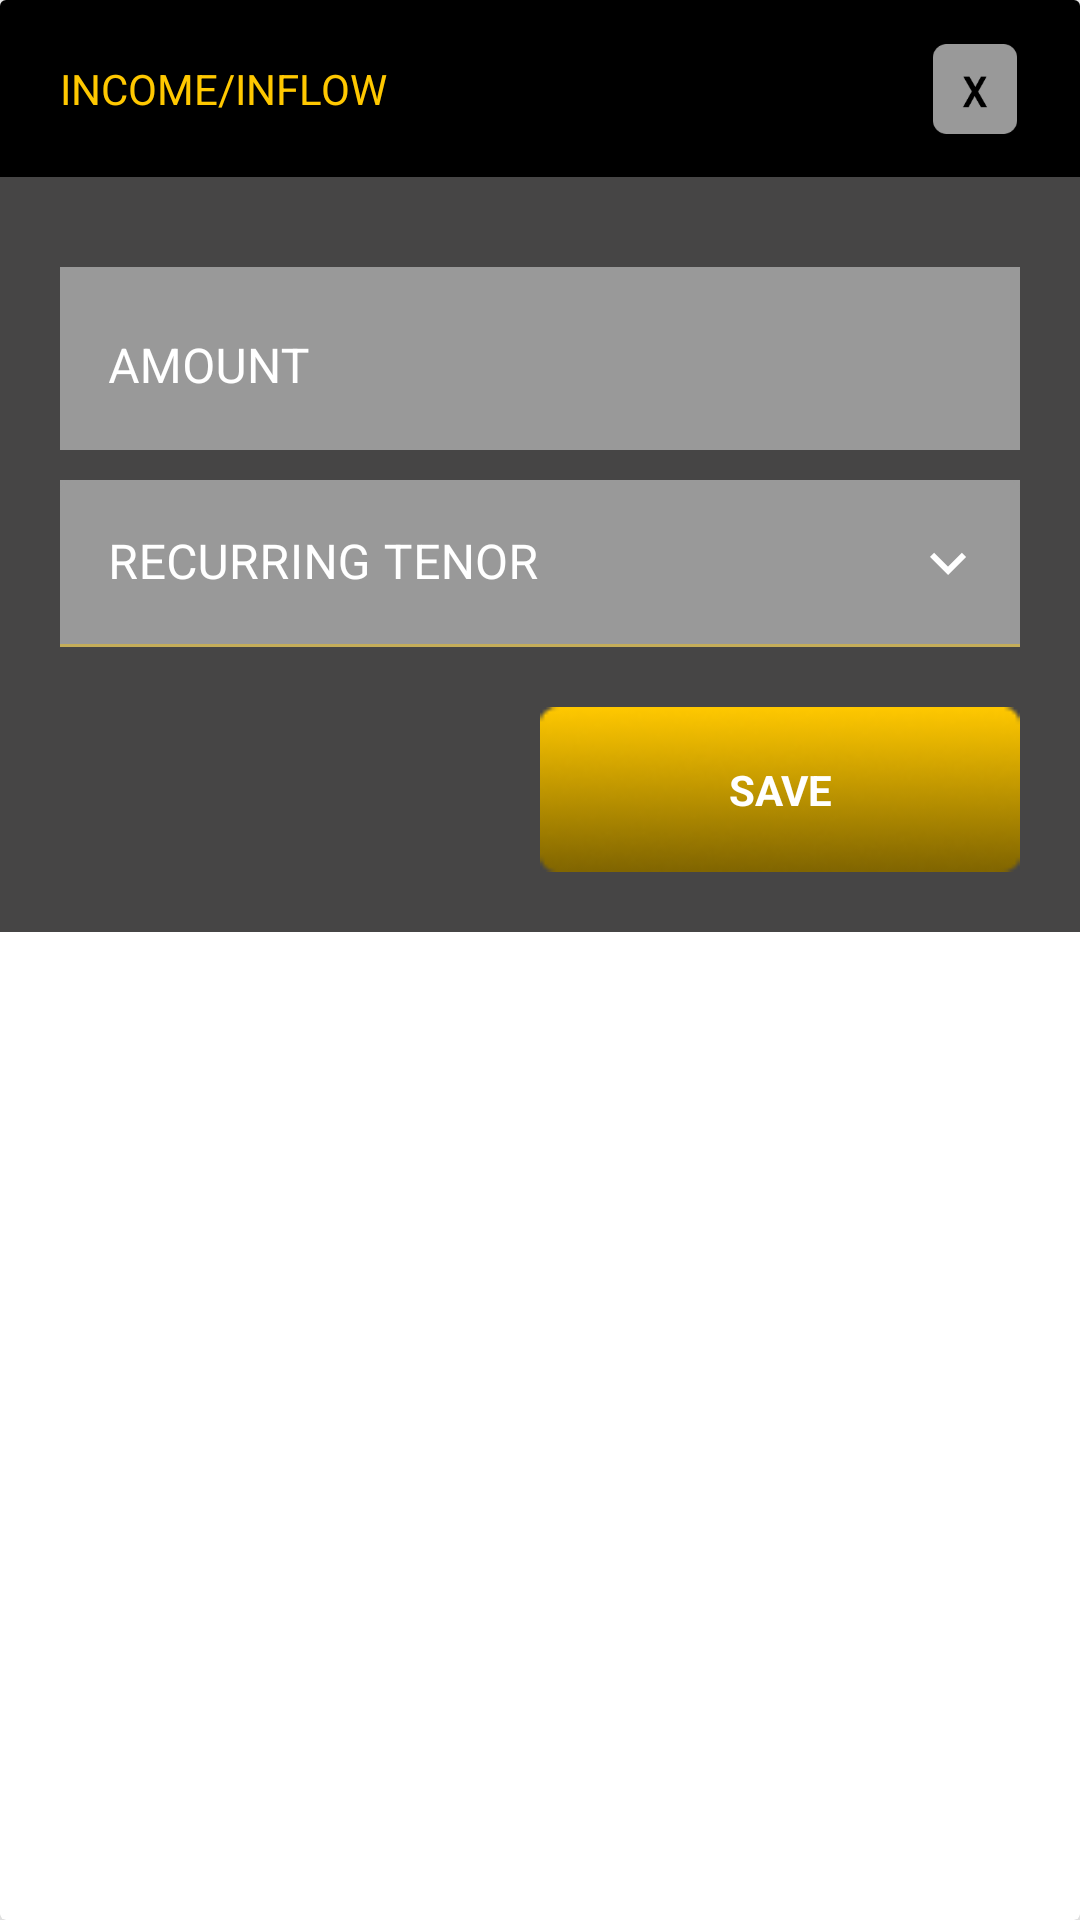

Screen size 1080*1920. Icon name, then its box in pixels as [x1,y1,x2,y2]:
cancel: [933,44,1017,134]
